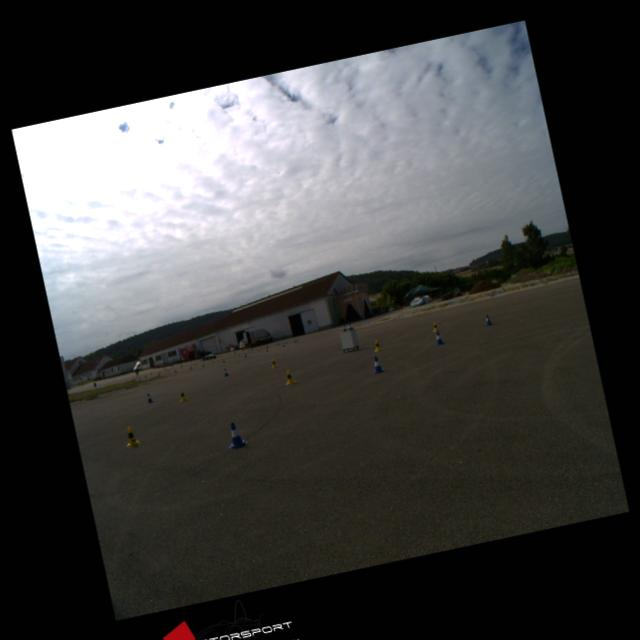blue_cone: (224, 419, 248, 448), (369, 354, 384, 373), (432, 329, 443, 344), (482, 314, 492, 326), (145, 392, 152, 402), (222, 367, 228, 376), (341, 324, 346, 332), (347, 322, 352, 330)
yellow_cone: (121, 424, 140, 446), (282, 368, 295, 384), (178, 388, 188, 401), (372, 339, 382, 350), (431, 322, 439, 332), (270, 357, 276, 367)
